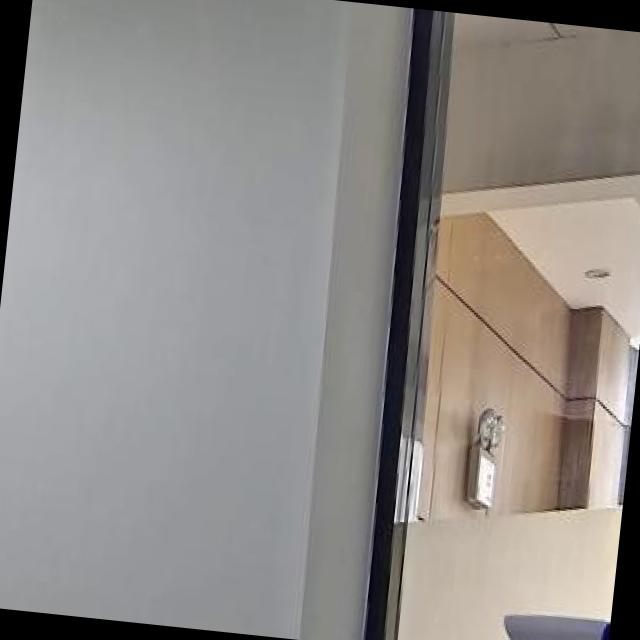Guns: (26, 0, 45, 59)
